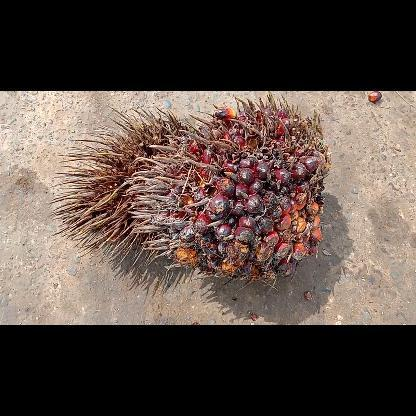Janjang kosong: (48, 103, 190, 266)
TBS masak: (127, 90, 330, 286)
